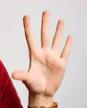down: (11, 11, 75, 93)
